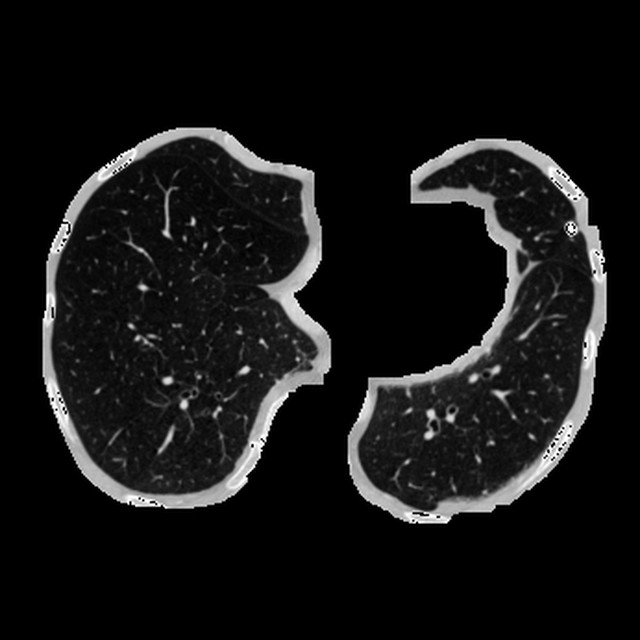PN: (562, 222, 577, 237)
